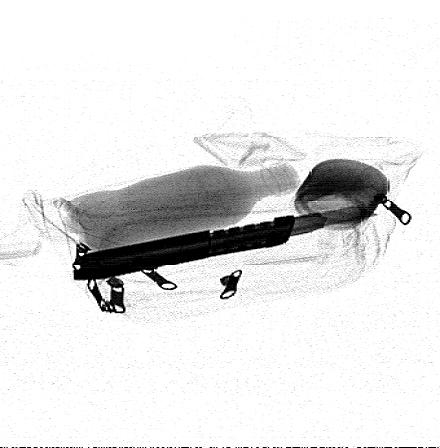Knife: (72, 204, 380, 282)
